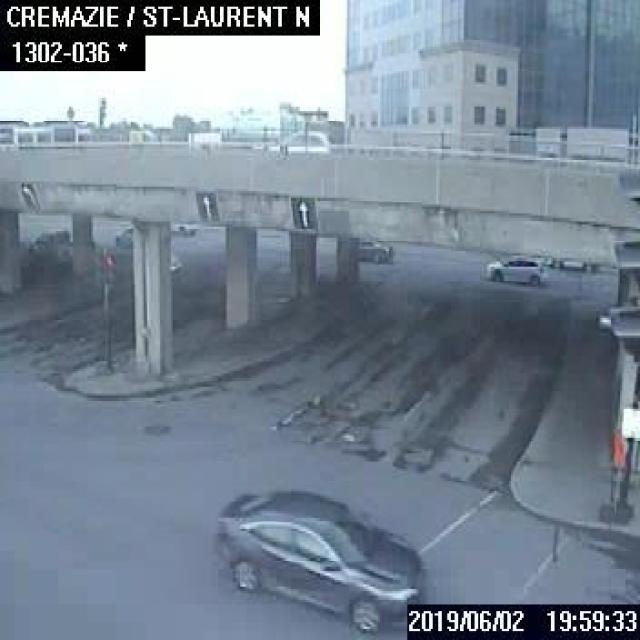construction: (602, 434, 632, 522)
vehicle: (212, 484, 424, 630), (262, 120, 337, 160), (482, 251, 545, 285), (542, 254, 598, 270), (353, 237, 391, 260), (113, 225, 131, 247), (169, 220, 197, 234)
